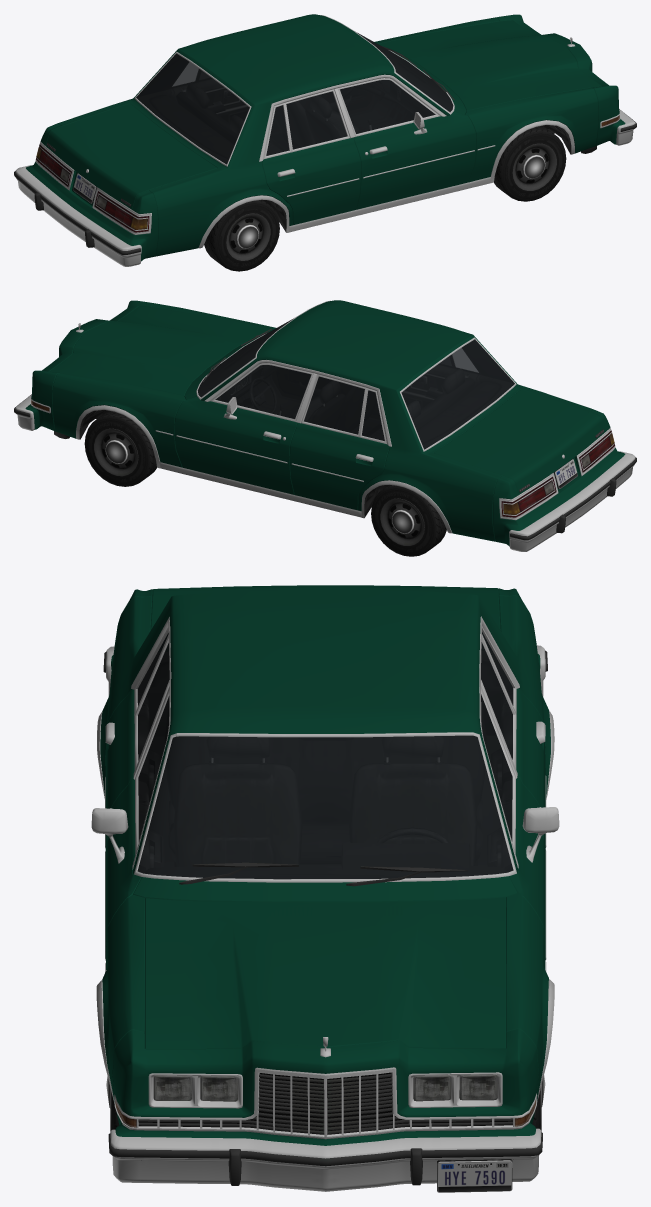
The model's file is negotiator80.glb.
The picture shows the model from 3 angles, top to bottom: view 1: azimuth 30°, elevation 25°; view 2: azimuth 150°, elevation 25°; view 3: azimuth 270°, elevation 25°; orthographic projection. The views are drawn at different scales.
Visible parts, largest first — view 1: Negotiator80_Body_Negotiator80_Bodymat_0, Negotiator80_Interior_UCB_Interiors_2_0, Negotiator80_Hood_Negotiator80_Bodymat_0, Negotiator80_bottom_UCB_BOTTOM_0, Negotiator80_Trunk_door_Negotiator80_Bodymat_0, Negotiator80_Glass_back_UCB_Lights_and_Glass_Transperent_0, Negotiator80_WheelStock_FR_RB1c_Tire_1k_0, Negotiator80_WheelStock_RR_RB1c_Tire_1k_0, Negotiator80_Bodyglass_UCB_Lights_and_Glass_Transperent_0, Negotiator80_Bumper_Rear_UCB_BOTTOM_0, Negotiator80_Glass_Passanger_UCB_Lights_and_Glass_Transperen, Negotiator80_Windshield_UCB_Lights_and_Glass_Transperent_0 (+4 smaller); view 2: Negotiator80_Body_Negotiator80_Bodymat_0, Negotiator80_Interior_UCB_Interiors_2_0, Negotiator80_Hood_Negotiator80_Bodymat_0, Negotiator80_bottom_UCB_BOTTOM_0, Negotiator80_Trunk_door_Negotiator80_Bodymat_0, Negotiator80_Glass_back_UCB_Lights_and_Glass_Transperent_0, Negotiator80_WheelStock_FL_RB1c_Tire_1k_0, Negotiator80_WheelStock_RL_RB1c_Tire_1k_0, Negotiator80_Bodyglass_UCB_Lights_and_Glass_Transperent_0, Negotiator80_Bumper_Rear_UCB_BOTTOM_0, Negotiator80_Glass_Driver_UCB_Lights_and_Glass_Transperent_0, Negotiator80_Windshield_UCB_Lights_and_Glass_Transperent_0 (+4 smaller); view 3: Negotiator80_Body_Negotiator80_Bodymat_0, Negotiator80_Hood_Negotiator80_Bodymat_0, Negotiator80_Interior_UCB_Interiors_2_0, Negotiator80_Windshield_UCB_Lights_and_Glass_Transperent_0, Negotiator80_bottom_UCB_BOTTOM_0, Negotiator80_Bumper_Front_UCB_BOTTOM_0, Negotiator80_Headlights_Glass_UCB_Lights_and_Glass_Transpere, Negotiator80_Headlights_UCB_Lights_and_Glass_0, Negotiator80_Bodyglass_UCB_Lights_and_Glass_Transperent_0, Negotiator80_Trunk_door_Negotiator80_Bodymat_0, Negotiator80_Numberplate_front_Numberplates_Misk_U_0, Negotiator80_Glass_Driver_UCB_Lights_and_Glass_Transperent_0 (+1 smaller).
Part boxes in pixels (<box>): Negotiator80_Body_Negotiator80_Bodymat_0: <box>26,14,625,261</box>; Negotiator80_Interior_UCB_Interiors_2_0: <box>136,45,452,163</box>; Negotiator80_Hood_Negotiator80_Bodymat_0: <box>378,20,601,110</box>; Negotiator80_bottom_UCB_BOTTOM_0: <box>35,15,620,248</box>; Negotiator80_Trunk_door_Negotiator80_Bodymat_0: <box>46,103,216,209</box>; Negotiator80_Glass_back_UCB_Lights_and_Glass_Transperent_0: <box>136,53,249,164</box>; Negotiator80_WheelStock_FR_RB1c_Tire_1k_0: <box>493,125,566,201</box>; Negotiator80_WheelStock_RR_RB1c_Tire_1k_0: <box>204,199,279,271</box>; Negotiator80_Bodyglass_UCB_Lights_and_Glass_Transperent_0: <box>200,72,346,155</box>; Negotiator80_Bumper_Rear_UCB_BOTTOM_0: <box>14,165,141,266</box>; Negotiator80_Glass_Passanger_UCB_Lights_and_Glass_Transperen: <box>340,80,435,133</box>; Negotiator80_Windshield_UCB_Lights_and_Glass_Transperent_0: <box>357,32,453,112</box>; Negotiator80_Body_Negotiator80_Bodymat_0: <box>25,300,625,546</box>; Negotiator80_Interior_UCB_Interiors_2_0: <box>198,331,514,448</box>; Negotiator80_Hood_Negotiator80_Bodymat_0: <box>49,306,272,395</box>; Negotiator80_bottom_UCB_BOTTOM_0: <box>30,300,615,533</box>; Negotiator80_Trunk_door_Negotiator80_Bodymat_0: <box>434,389,605,494</box>; Negotiator80_Glass_back_UCB_Lights_and_Glass_Transperent_0: <box>401,339,514,449</box>; Negotiator80_WheelStock_FL_RB1c_Tire_1k_0: <box>84,410,157,486</box>; Negotiator80_WheelStock_RL_RB1c_Tire_1k_0: <box>371,485,446,556</box>; Negotiator80_Bodyglass_UCB_Lights_and_Glass_Transperent_0: <box>304,357,451,441</box>; Negotiator80_Bumper_Rear_UCB_BOTTOM_0: <box>509,451,636,551</box>; Negotiator80_Glass_Driver_UCB_Lights_and_Glass_Transperent_0: <box>215,365,311,418</box>; Negotiator80_Windshield_UCB_Lights_and_Glass_Transperent_0: <box>197,318,293,397</box>; Negotiator80_Body_Negotiator80_Bodymat_0: <box>100,588,550,1145</box>; Negotiator80_Hood_Negotiator80_Bodymat_0: <box>144,897,506,1048</box>; Negotiator80_Interior_UCB_Interiors_2_0: <box>137,652,512,878</box>; Negotiator80_Windshield_UCB_Lights_and_Glass_Transperent_0: <box>137,735,513,879</box>; Negotiator80_bottom_UCB_BOTTOM_0: <box>91,616,559,1139</box>; Negotiator80_Bumper_Front_UCB_BOTTOM_0: <box>108,1128,542,1191</box>; Negotiator80_Headlights_Glass_UCB_Lights_and_Glass_Transpere: <box>115,1074,535,1127</box>; Negotiator80_Headlights_UCB_Lights_and_Glass_0: <box>154,1075,496,1100</box>; Negotiator80_Bodyglass_UCB_Lights_and_Glass_Transperent_0: <box>137,632,513,760</box>; Negotiator80_Trunk_door_Negotiator80_Bodymat_0: <box>150,585,500,630</box>; Negotiator80_Numberplate_front_Numberplates_Misk_U_0: <box>437,1160,512,1192</box>; Negotiator80_Glass_Driver_UCB_Lights_and_Glass_Transperent_0: <box>481,694,512,841</box>.
Bounding box in the file's own units: 4.94 × 1.39 × 1.87.
Materials: 8 (7 with a texture image).
